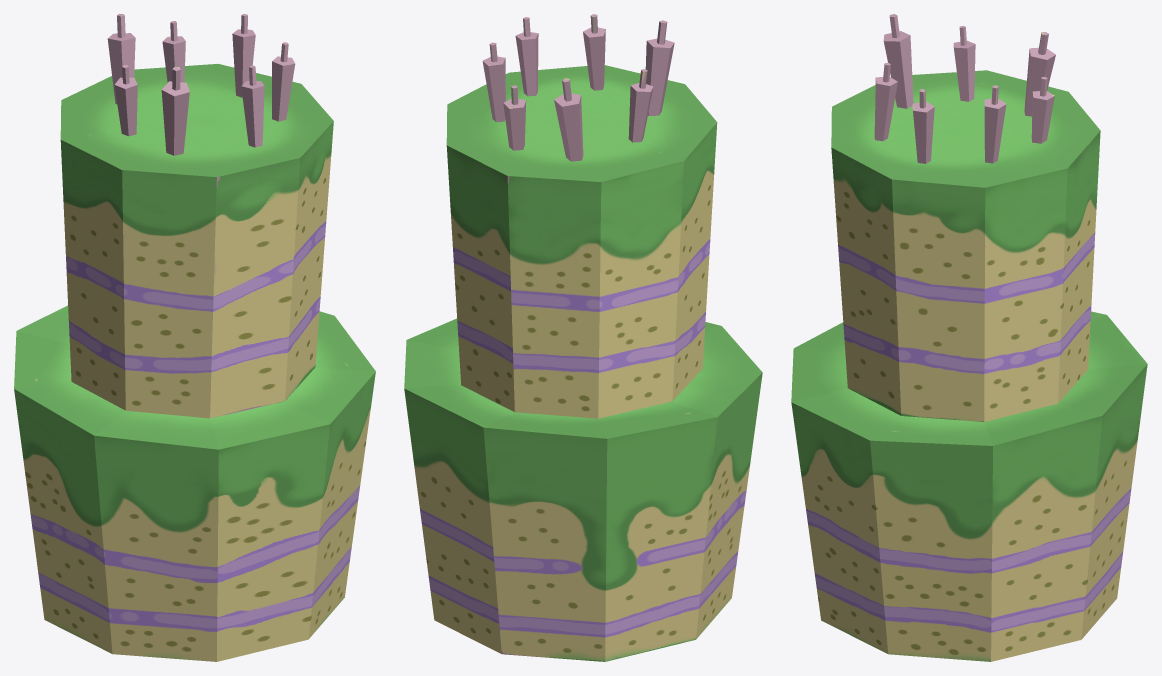
Rendered from Birthday Cake.fbx.
3 views of the same model, side by side, from view 1: azimuth 30°, elevation 25°; view 2: azimuth 150°, elevation 25°; view 3: azimuth 270°, elevation 25° (orthographic).
Parts seen in each view (by area): view 1: Birthday Cake; view 2: Birthday Cake; view 3: Birthday Cake.
Boxes of the visible parts, <box> form: Birthday Cake: <box>14,14,375,661</box>; Birthday Cake: <box>404,14,762,661</box>; Birthday Cake: <box>791,14,1147,661</box>.
Bounding box in the file's own units: 197 × 337 × 194.
